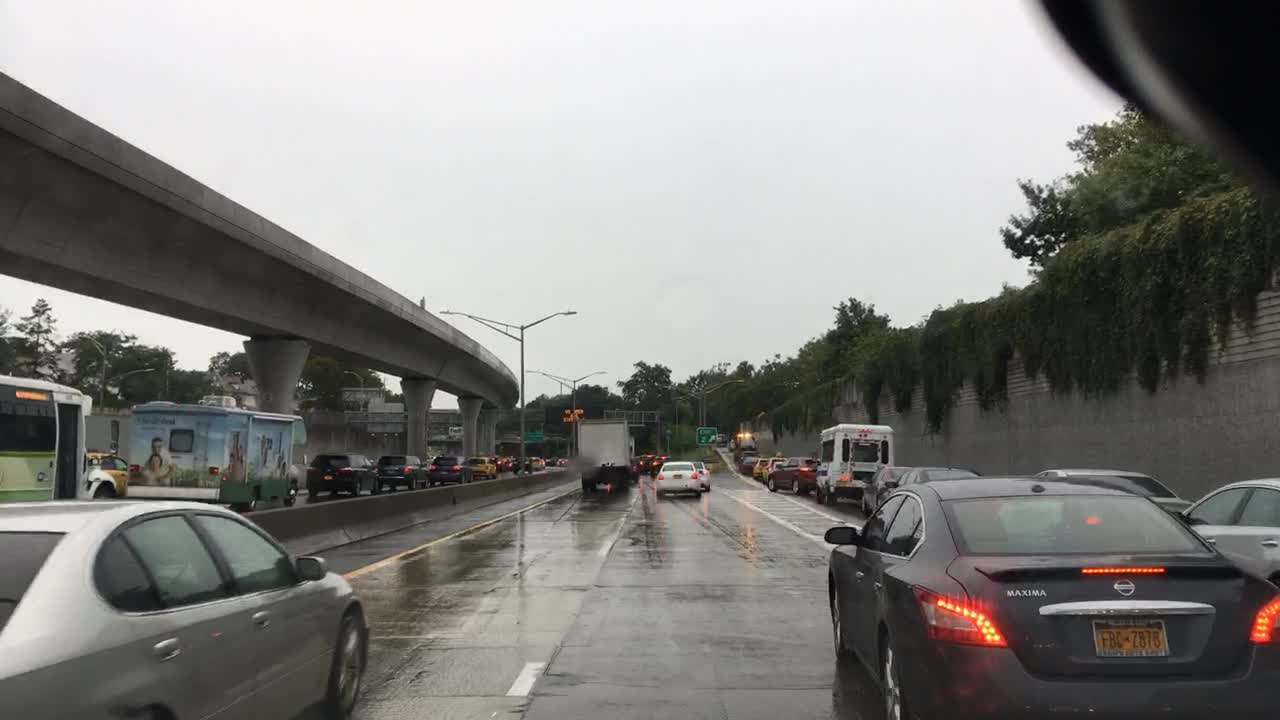bus: (0, 372, 129, 496), (811, 422, 897, 510)
car: (822, 472, 1276, 717), (0, 501, 370, 718), (124, 397, 309, 510), (1178, 474, 1276, 593), (1031, 466, 1194, 513), (304, 454, 385, 502), (764, 453, 825, 496), (372, 454, 428, 493), (652, 458, 706, 498), (872, 462, 907, 513), (86, 452, 128, 493), (426, 454, 472, 482), (892, 464, 984, 476), (760, 454, 795, 484), (688, 460, 711, 491), (467, 456, 496, 475), (737, 456, 760, 475), (732, 432, 756, 449), (751, 460, 772, 479), (652, 453, 667, 477), (737, 449, 756, 463), (631, 458, 642, 482), (528, 454, 544, 470), (639, 453, 655, 468), (491, 454, 507, 467), (507, 460, 524, 472), (715, 433, 729, 446), (554, 458, 570, 467), (540, 456, 554, 465)
traffic sign: (695, 425, 716, 446), (523, 432, 544, 442)
truck: (575, 416, 634, 491)
